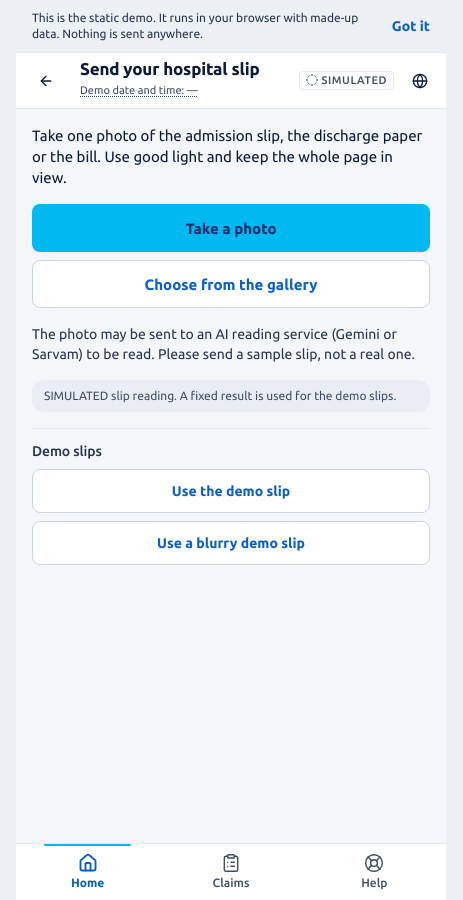
Test: reading, errors and offline › shows the reading state with Cancel, and Cancel drops the answer
Check: the element with test id "screen-slip" is shown, box x1=16 y1=109 x2=446 y2=581
Click the button with test id "slip-demo-good": point(231, 491) x1=32 y1=469 x2=430 y2=513
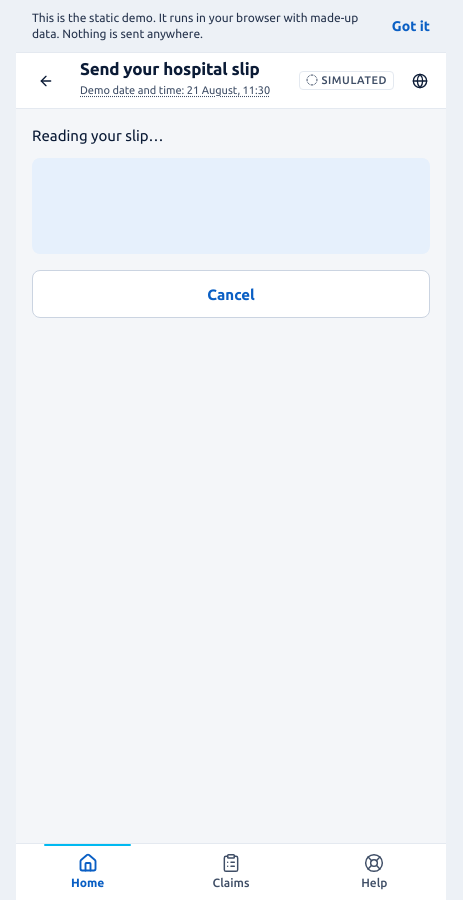
Check: the element with test id "slip-reading" is shown, box x1=32 y1=125 x2=430 y2=254
Check: the text "Reading your slip…" is shown, box x1=32 y1=127 x2=164 y2=144
Click the button with test id "slip-cancel": point(231, 294) x1=32 y1=270 x2=430 y2=318
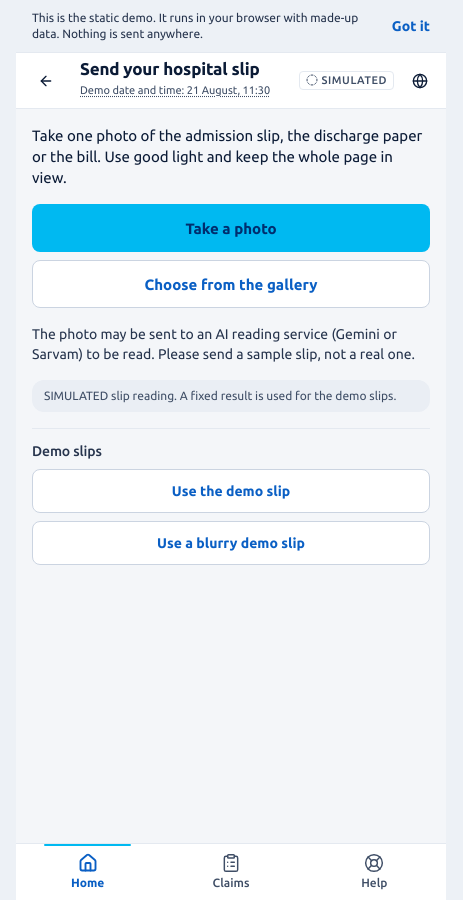
Check: the element with test id "slip-reading" is gone
Check: the button with test id "slip-take" is shown, box x1=32 y1=204 x2=430 y2=252
